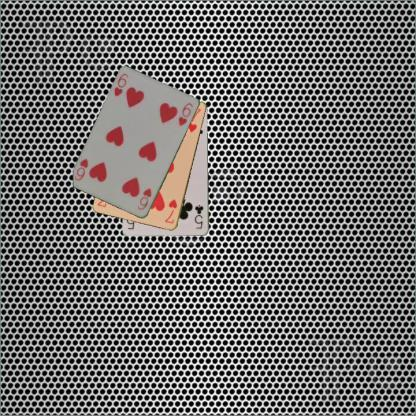5c: (192, 202, 204, 230)
6h: (134, 186, 154, 212), (112, 71, 130, 98)
7h: (162, 197, 178, 225)
